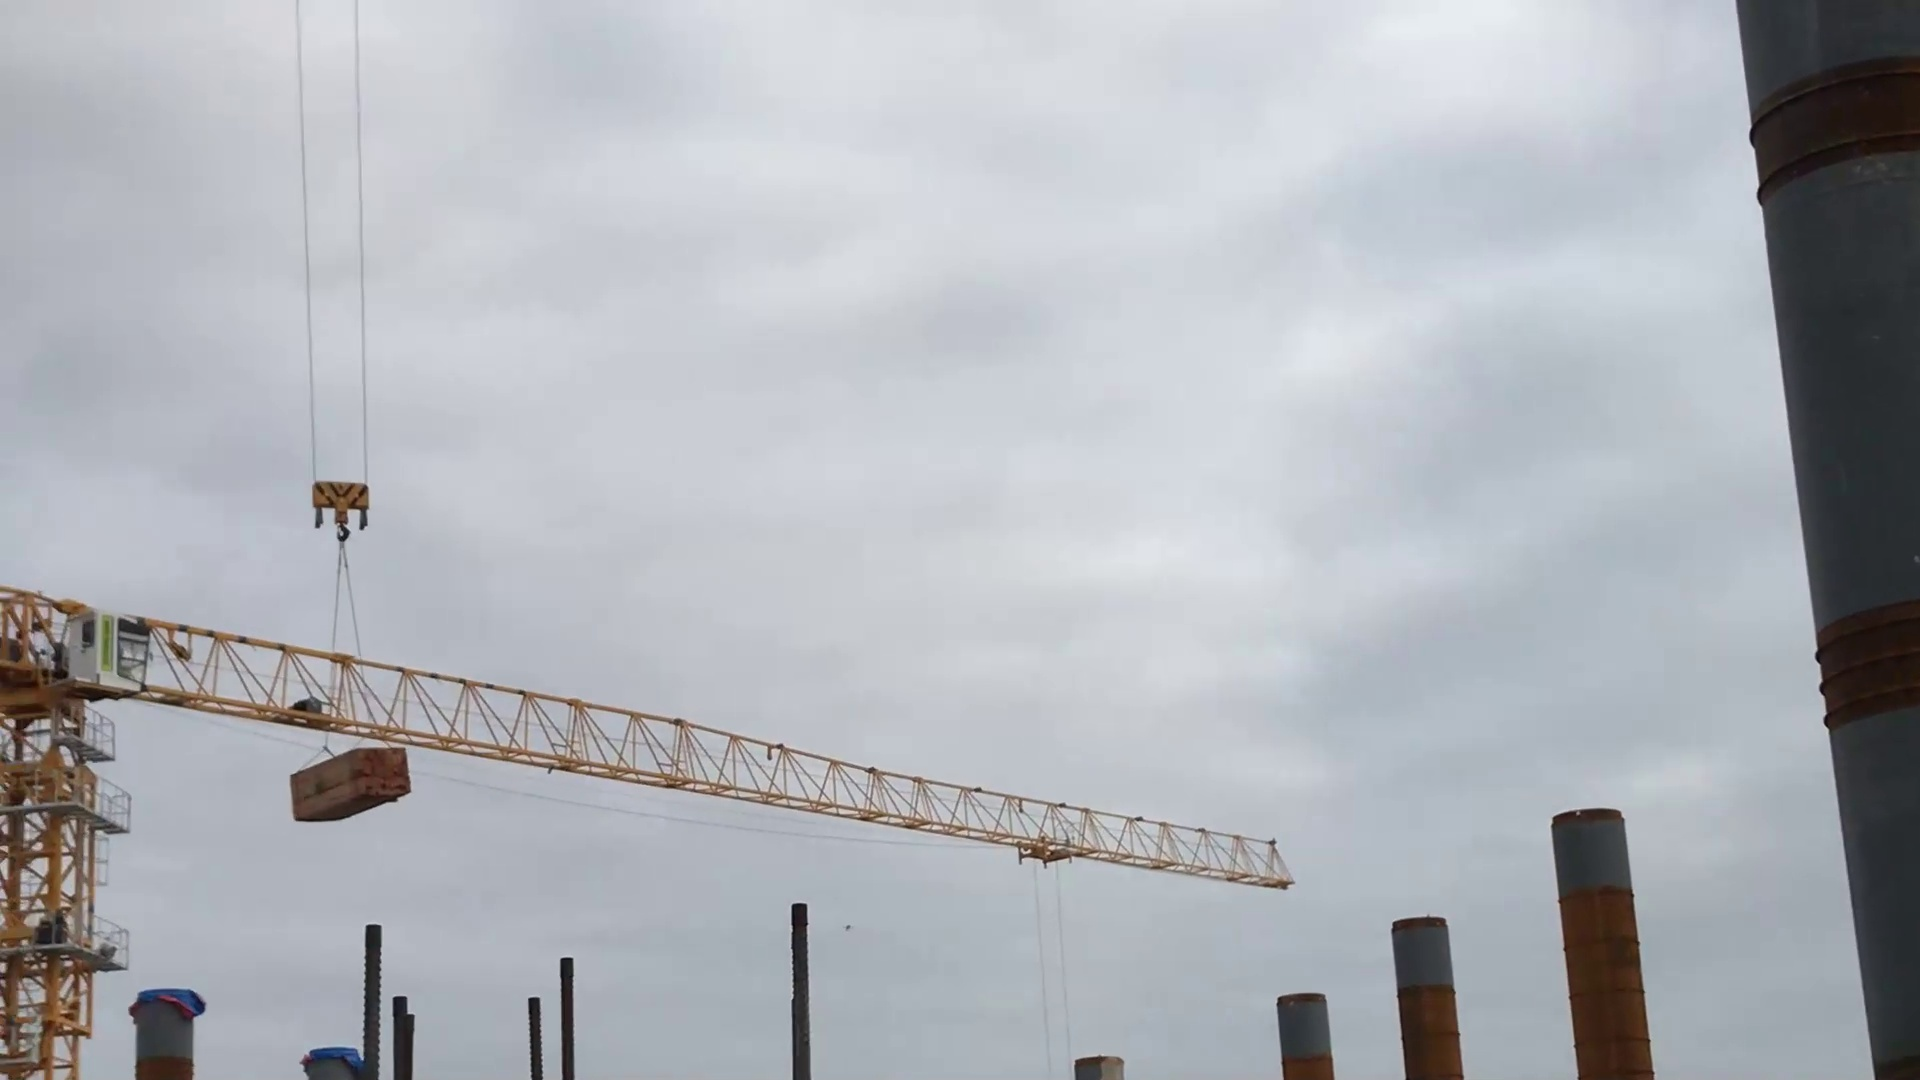hook: (305, 476, 380, 543)
wood: (287, 735, 422, 825)
